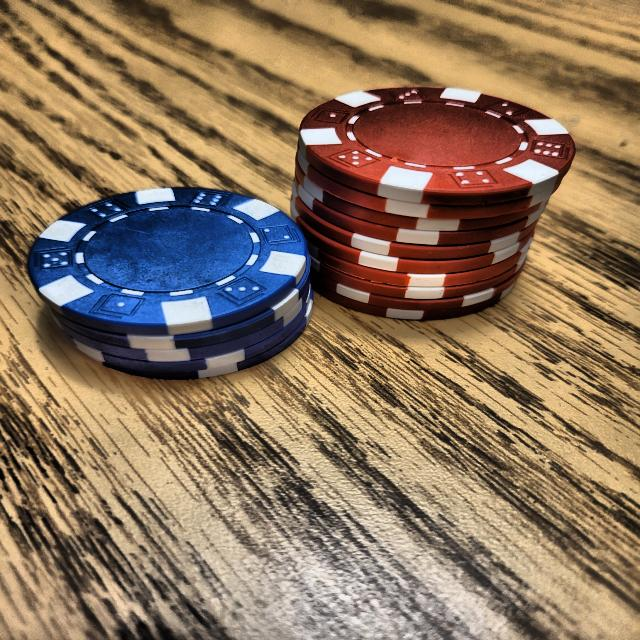Chip: (270, 76, 588, 331), (15, 185, 325, 395)
